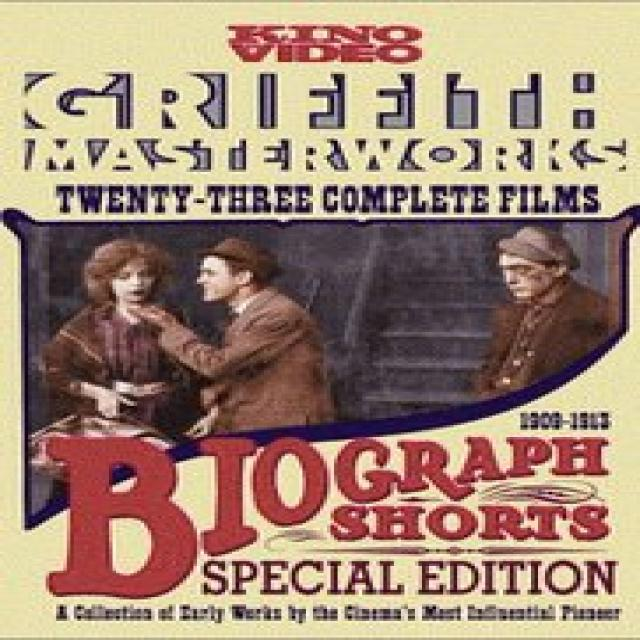movie-judul: (41, 428, 628, 602)
picture: (47, 228, 614, 418)
